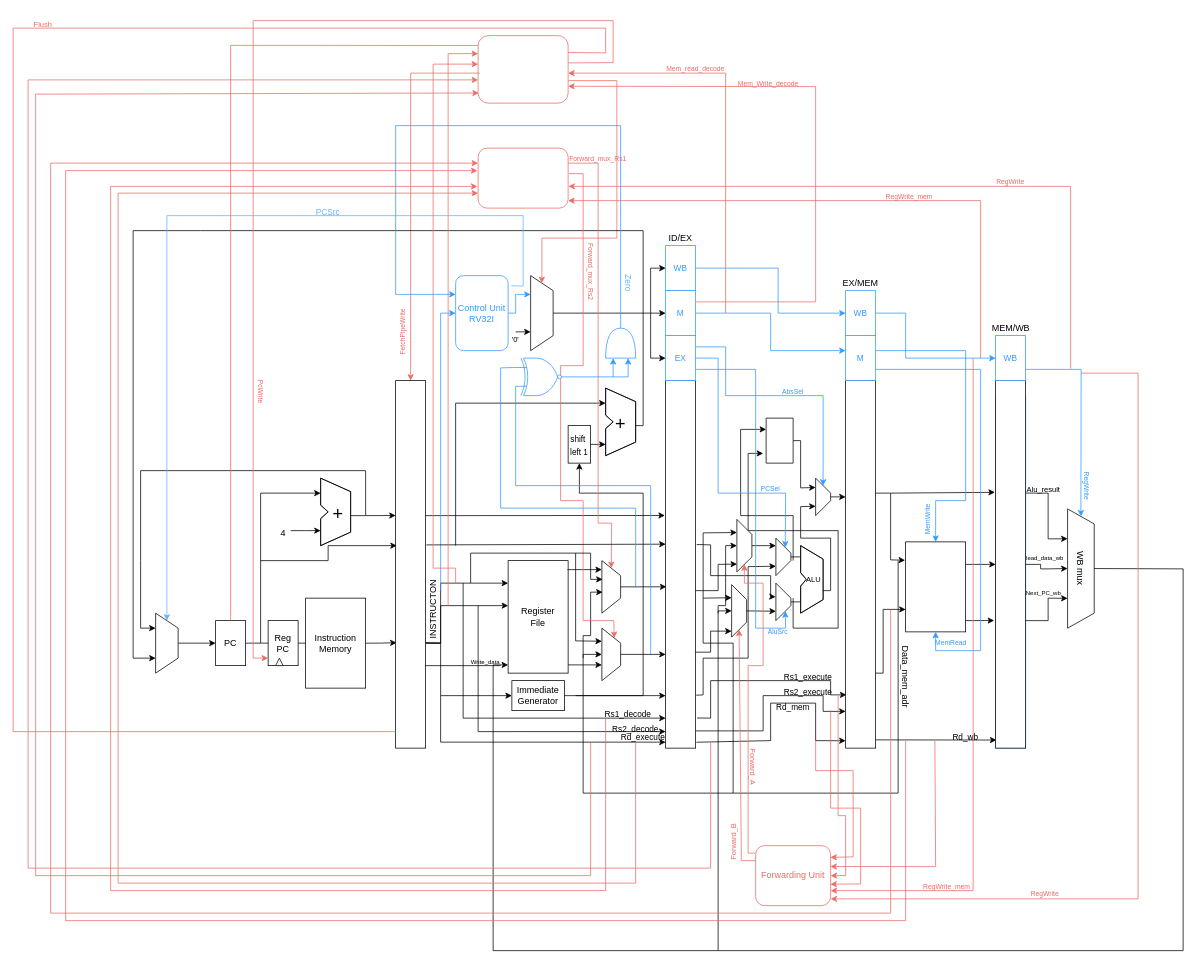
The diagram is 1202 pixels wide and 970 high, and some of its shapes have lost their labels. The centre of each missing label's shape, as x and y in pixels:
"Absolute value" belongs at point (779, 440).
"Branch forwarding Unit" belongs at point (522, 177).
"Data Memory" belongs at point (935, 586).
"Forward_mux_A" belongs at point (744, 545).
"Forward_mux_B" belongs at point (739, 610).
"Hazard Detention Unit" belongs at point (522, 69).
"IF/ID" belongs at point (410, 564).
"PC mux" belongs at point (166, 642).
